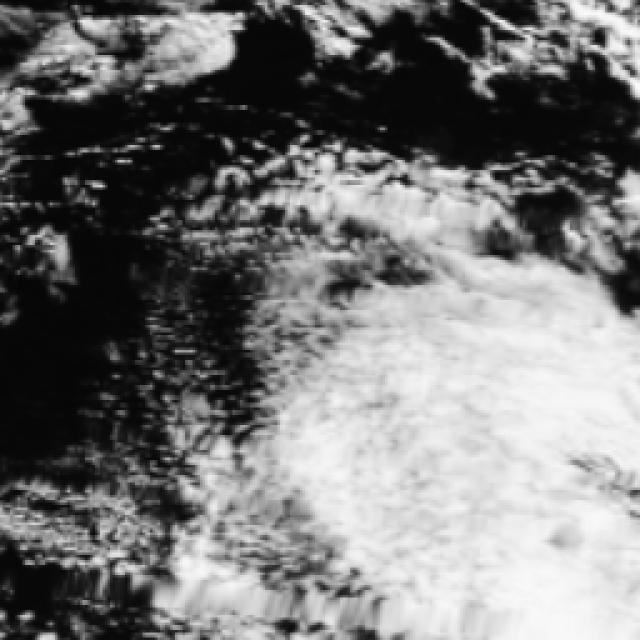CB: (395, 477, 640, 640), (329, 342, 542, 515), (428, 301, 617, 464)
